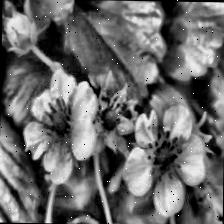Blossom Blight: (144, 129, 184, 183), (41, 96, 78, 148), (90, 92, 128, 140)
